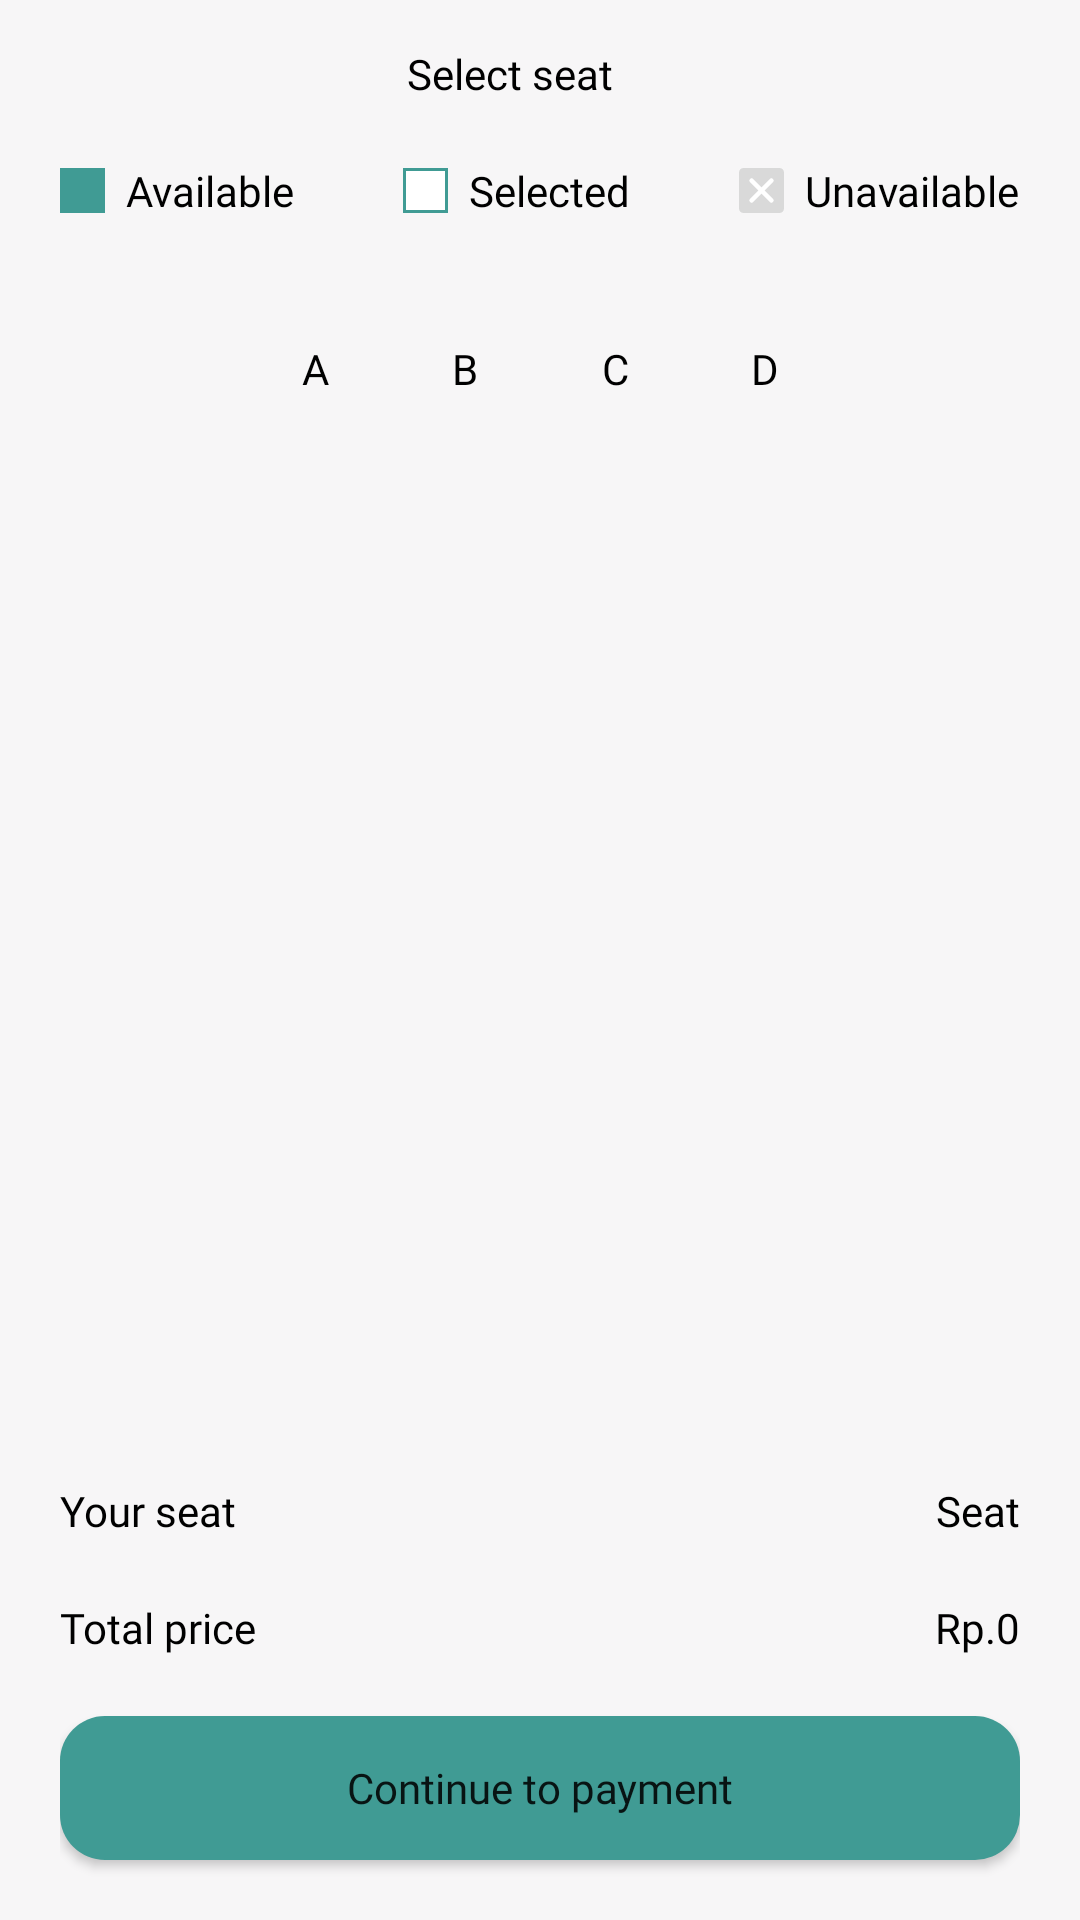

Point at icon controls on the screen. Image size 1080 x 1920, points as [x,y].
close: [761,190]
